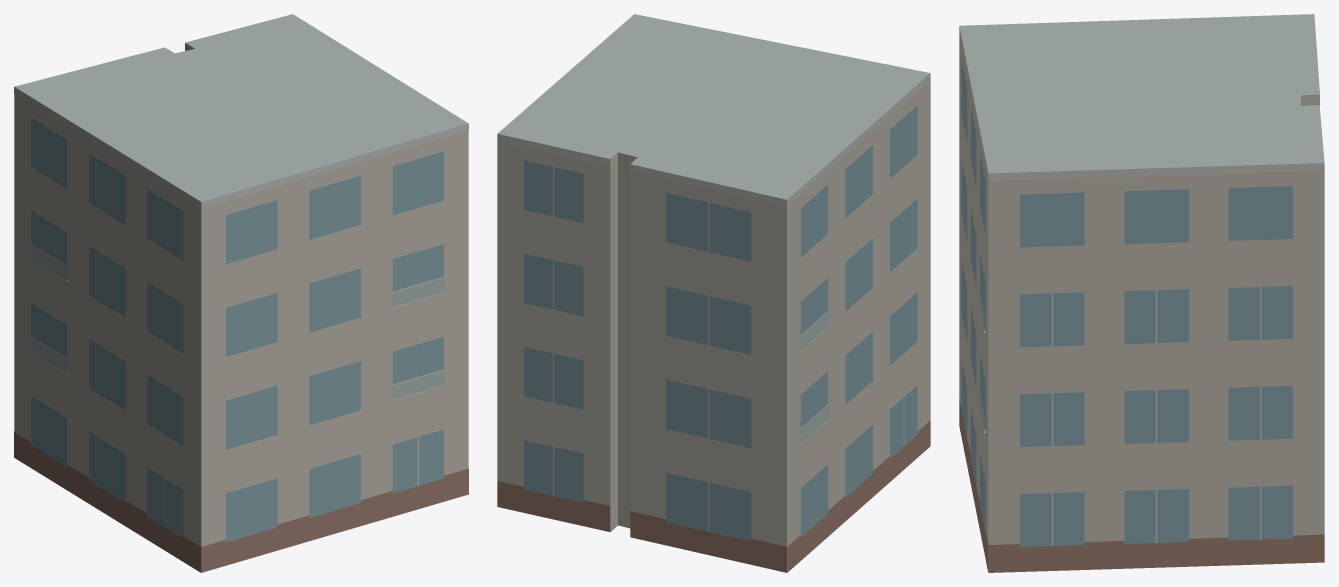
The model's file is survey-upis-32802261.glb.
3 views of the same model, side by side, from view 1: azimuth 30°, elevation 25°; view 2: azimuth 150°, elevation 25°; view 3: azimuth 270°, elevation 25° (orthographic). The views are drawn at different scales.
Visible parts, largest first — view 1: survey-upis-32802261.tmp; view 2: survey-upis-32802261.tmp; view 3: survey-upis-32802261.tmp.
Boxes of the visible parts, x1=… form: survey-upis-32802261.tmp: x1=14, y1=14, x2=468, y2=572; survey-upis-32802261.tmp: x1=497, y1=14, x2=930, y2=572; survey-upis-32802261.tmp: x1=959, y1=14, x2=1324, y2=572.
Size of the model in its own units: 11.22 by 13.1 by 10.87.
